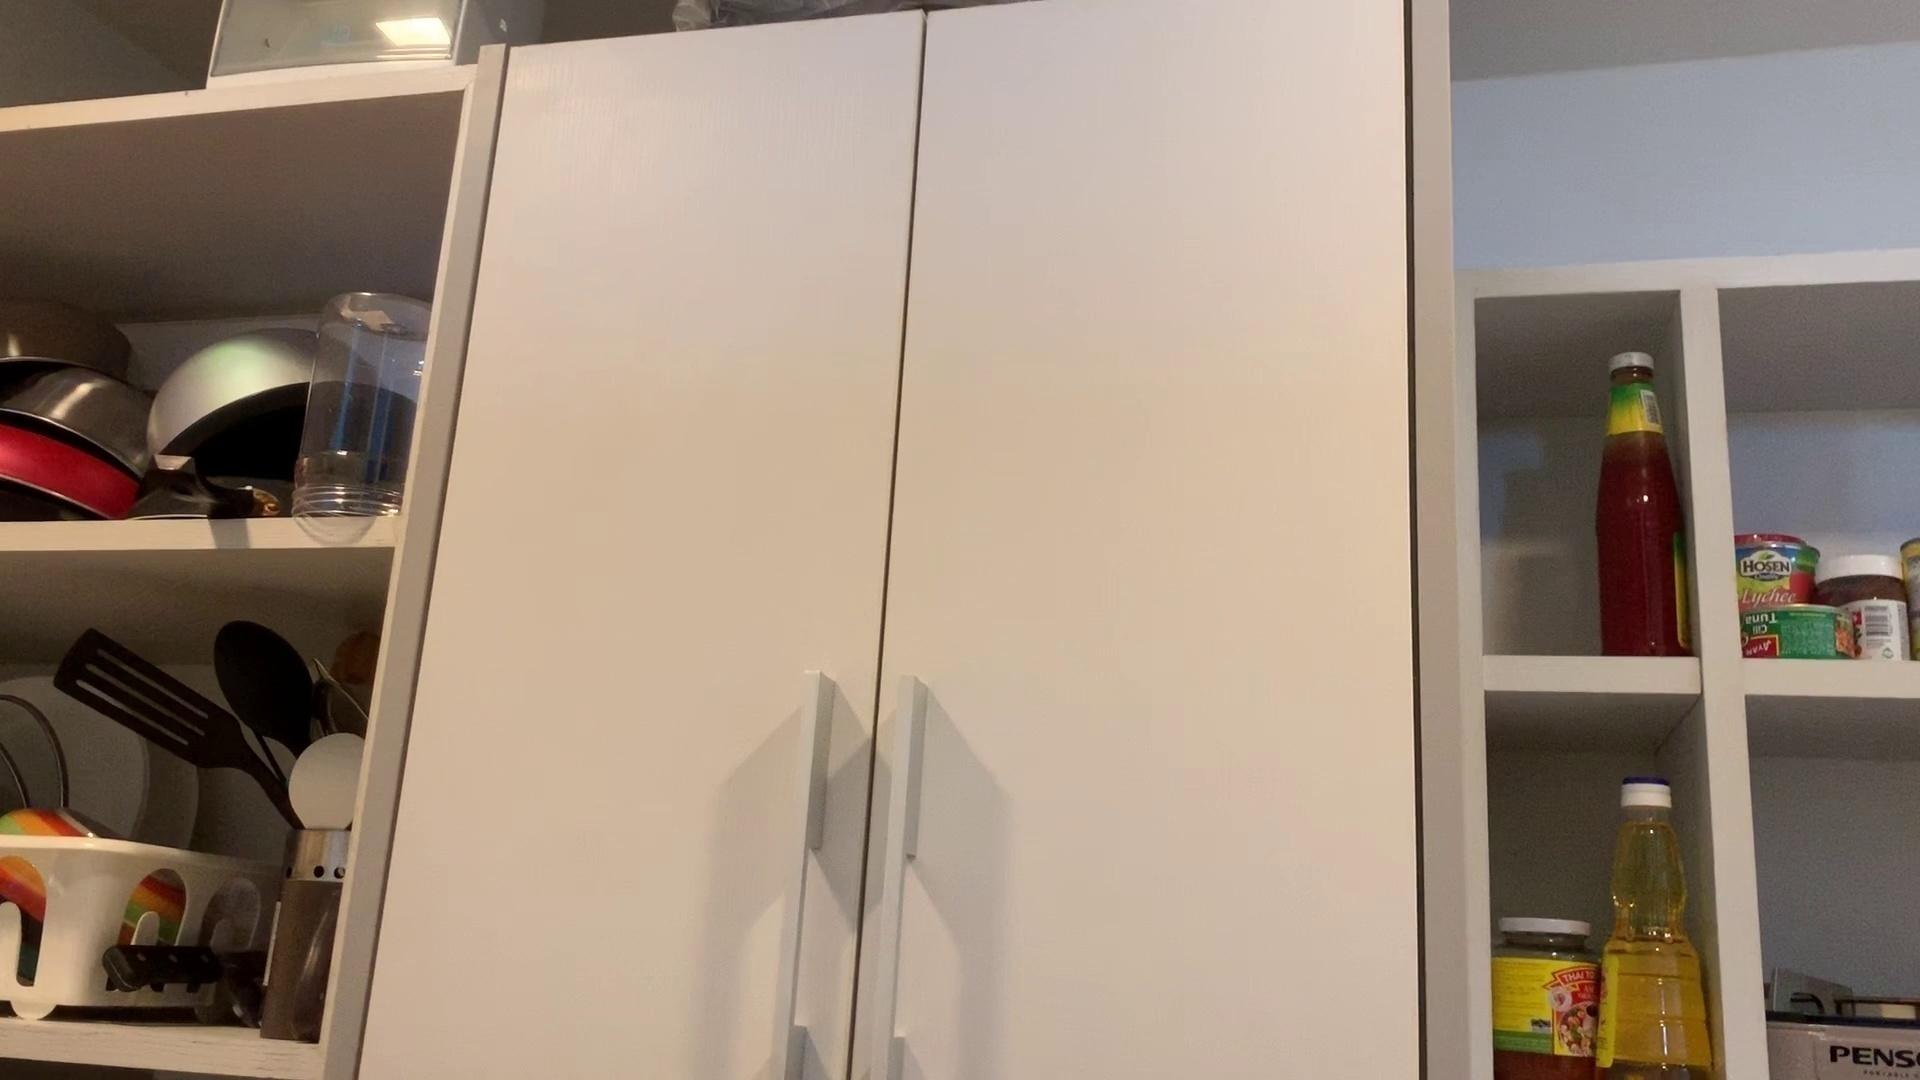cabinet_door: (913, 12, 1415, 1080), (483, 22, 897, 1080)
handle: (771, 670, 860, 1080), (860, 678, 945, 1080)
